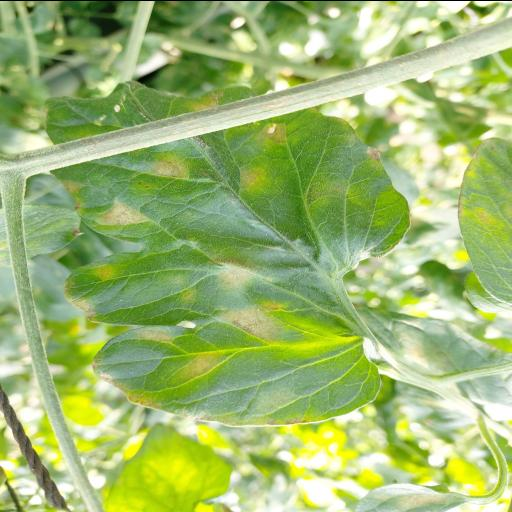Leaf Mold: (42, 82, 410, 424)
